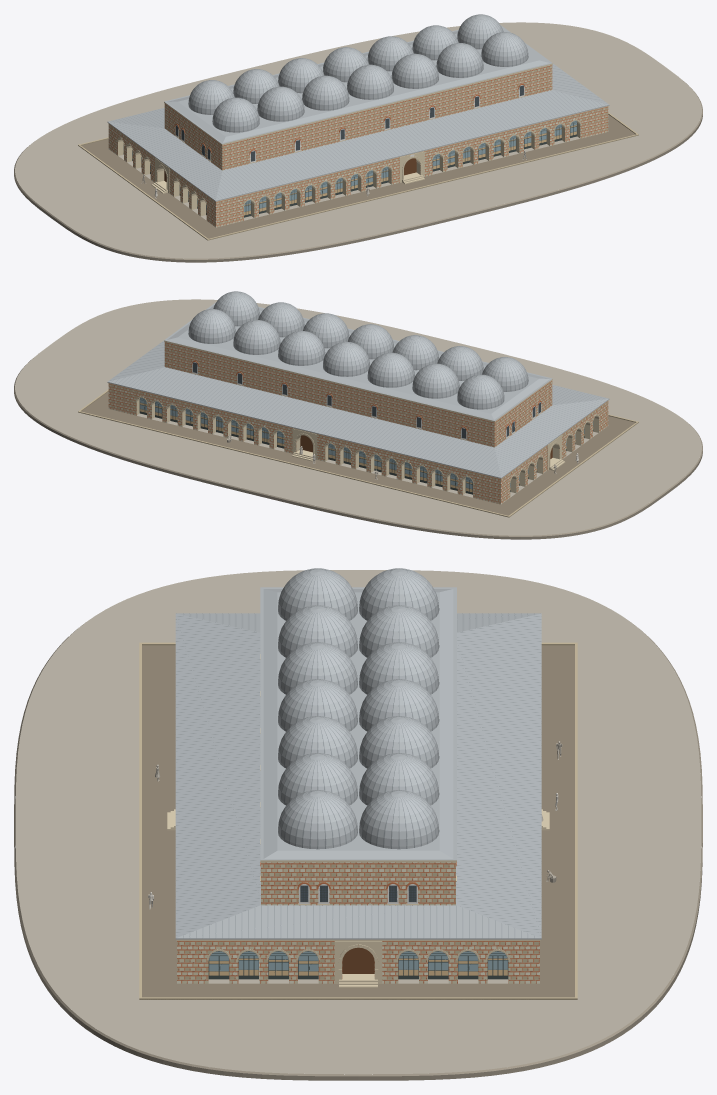
The model's file is bedesten_v09_sunum.glb.
3 views of the same model, one above another, from view 1: azimuth 30°, elevation 25°; view 2: azimuth 150°, elevation 25°; view 3: azimuth 270°, elevation 25° (orthographic). The views are drawn at different scales.
Parts seen in each view (by area): view 1: Zemin, Dukkanlar, Kubbeler, Govde, Zemin_Serit, Zemin_Bordur, Kapilar; view 2: Zemin, Dukkanlar, Kubbeler, Govde, Zemin_Serit, Zemin_Bordur, Kapilar; view 3: Zemin, Dukkanlar, Kubbeler, Zemin_Serit, Govde, Zemin_Bordur, Kapilar.
Part boxes in pixels (x1,y1,x2,y2): Zemin: (14,22,702,262); Dukkanlar: (107,25,609,227); Kubbeler: (188,14,528,132); Govde: (164,26,552,170); Zemin_Serit: (81,114,635,238); Zemin_Bordur: (78,112,638,240); Kapilar: (151,151,424,193); Zemin: (14,299,702,539); Dukkanlar: (107,302,609,504); Kubbeler: (188,291,528,409); Govde: (164,303,552,447); Zemin_Serit: (81,391,635,515); Zemin_Bordur: (78,389,638,517); Kapilar: (292,428,565,470); Zemin: (14,570,702,1080); Dukkanlar: (175,587,541,983); Kubbeler: (278,568,439,849); Zemin_Serit: (140,645,577,999); Govde: (260,588,456,905); Zemin_Bordur: (139,642,577,999); Kapilar: (167,809,549,987).
Bounding box in the file's own units: 110 × 14.8 × 63.63.
Materials: 18 (5 with a texture image).
